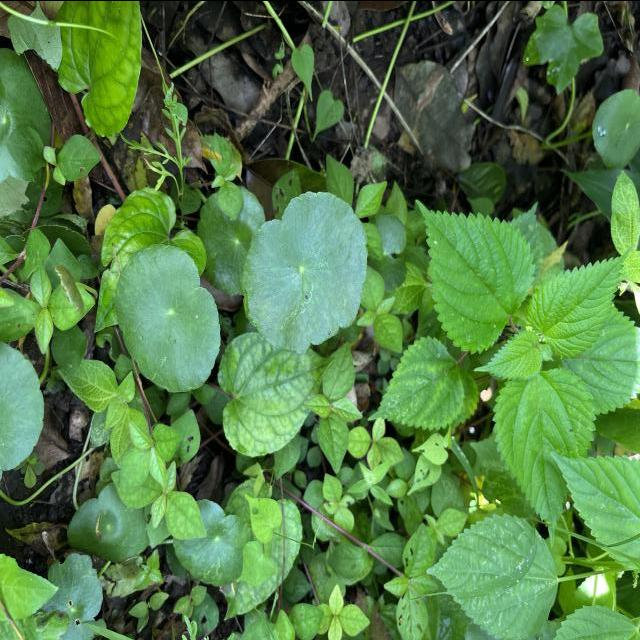Bacopa monnieri: (238, 188, 369, 354), (114, 240, 224, 394)
